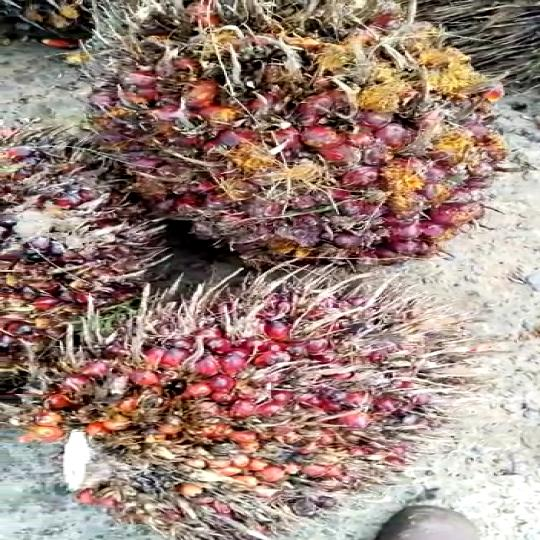masak: (77, 0, 529, 276), (6, 260, 428, 540)
